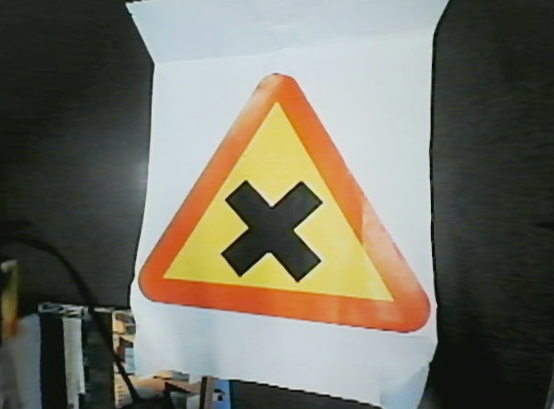junction: (139, 63, 438, 339)
